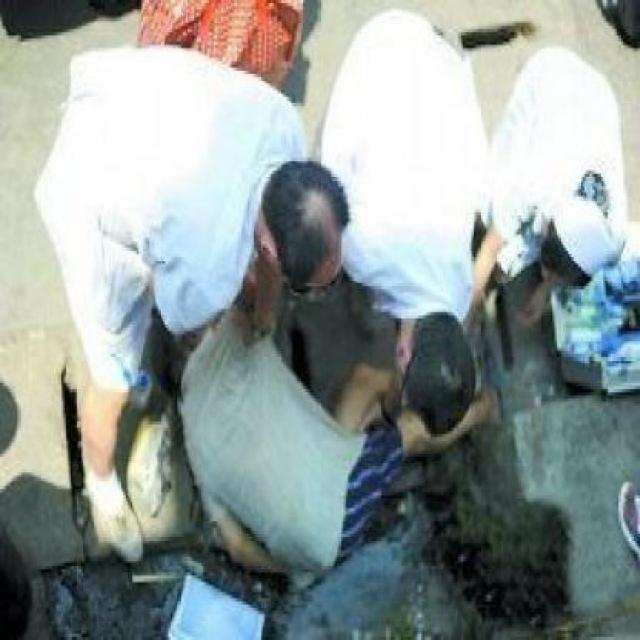fall: (129, 257, 502, 637)
